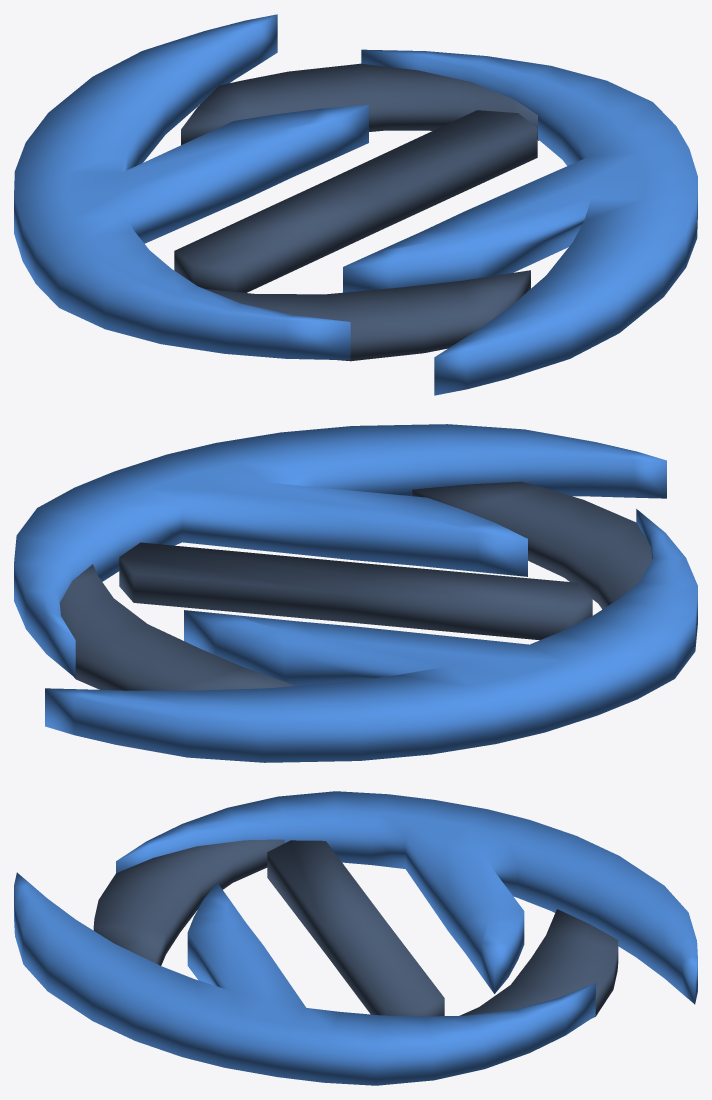
Rendered from GenvisisIcon.glb.
3 views of the same model, one above another, from view 1: azimuth 30°, elevation 25°; view 2: azimuth 150°, elevation 25°; view 3: azimuth 270°, elevation 25° (orthographic). The views are drawn at different scales.
Visible parts, largest first — view 1: Plane.001; view 2: Plane.001; view 3: Plane.001.
Boxes of the visible parts, box(x1,y1,x2,y2) form: Plane.001: box(14, 14, 697, 395); Plane.001: box(14, 424, 697, 762); Plane.001: box(14, 791, 697, 1085).
Bounding box in the file's own units: 3.66 × 0.2218 × 4.04.
